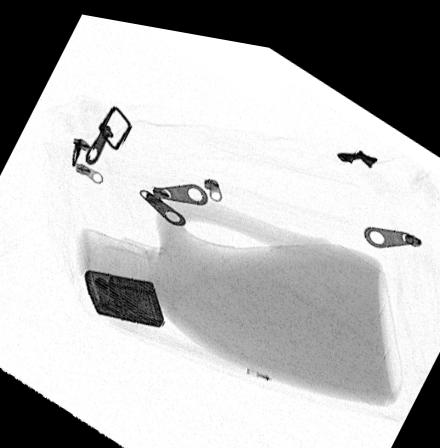Lighter: (84, 266, 165, 323)
